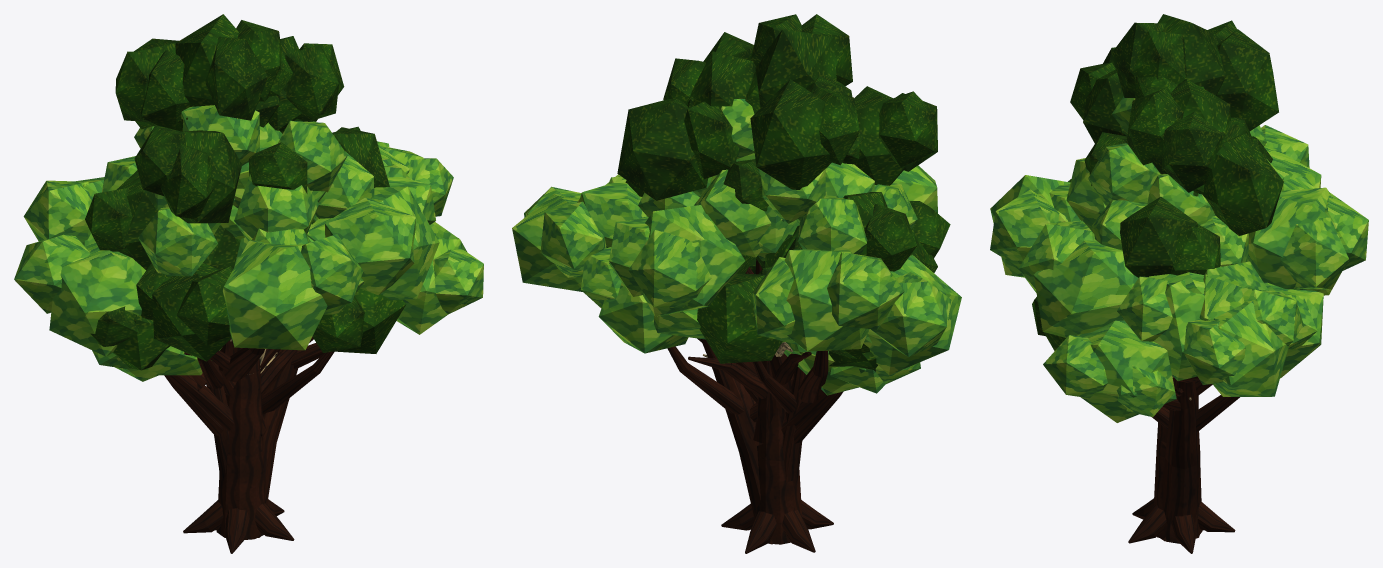
File: forest_trees-QFwpbQj8.glb
3 renders of one model, left to right at view 1: azimuth 30°, elevation 25°; view 2: azimuth 150°, elevation 25°; view 3: azimuth 270°, elevation 25°, orthographic. The views are drawn at different scales.
Parts seen in each view (by area): view 1: Oak_Spreading_Canopy, Birch_Forked_Canopy, OakCanopy, Rowan_Fan_Canopy, Oak_Windswept_Canopy, OakTrunk, Oak_Spreading_Trunk, BirchCanopy, Rowan_Fan_Trunk, Oak_Windswept_Trunk; view 2: Birch_Forked_Canopy, Oak_Spreading_Canopy, Oak_Windswept_Canopy, OakCanopy, Rowan_Fan_Canopy, Oak_Spreading_Trunk, OakTrunk, Oak_Windswept_Trunk, Rowan_Fan_Trunk, BirchCanopy; view 3: Birch_Forked_Canopy, Oak_Spreading_Canopy, Oak_Windswept_Canopy, OakCanopy, Oak_Windswept_Trunk, Oak_Spreading_Trunk, BirchCanopy, OakTrunk.
Boxes of the visible parts, x1,y1,x2,y2 form: Oak_Spreading_Canopy: [14, 145, 439, 356]; Birch_Forked_Canopy: [85, 14, 389, 270]; OakCanopy: [101, 105, 374, 276]; Rowan_Fan_Canopy: [90, 219, 406, 370]; Oak_Windswept_Canopy: [92, 141, 483, 381]; OakTrunk: [184, 337, 313, 539]; Oak_Spreading_Trunk: [168, 340, 294, 553]; BirchCanopy: [175, 53, 307, 193]; Rowan_Fan_Trunk: [164, 349, 334, 481]; Oak_Windswept_Trunk: [215, 343, 323, 533]; Birch_Forked_Canopy: [617, 14, 937, 271]; Oak_Spreading_Canopy: [577, 165, 961, 374]; Oak_Windswept_Canopy: [512, 176, 920, 395]; OakCanopy: [638, 99, 917, 261]; Rowan_Fan_Canopy: [697, 201, 950, 371]; Oak_Spreading_Trunk: [721, 259, 833, 553]; OakTrunk: [688, 267, 811, 544]; Oak_Windswept_Trunk: [667, 339, 791, 529]; Rowan_Fan_Trunk: [753, 361, 843, 489]; BirchCanopy: [723, 50, 863, 211]; Birch_Forked_Canopy: [1070, 14, 1283, 277]; Oak_Spreading_Canopy: [990, 125, 1368, 381]; Oak_Windswept_Canopy: [1043, 261, 1323, 422]; OakCanopy: [1066, 96, 1283, 266]; Oak_Windswept_Trunk: [1159, 376, 1239, 543]; Oak_Spreading_Trunk: [1128, 376, 1235, 553]; BirchCanopy: [1084, 76, 1272, 194]; OakTrunk: [1153, 380, 1212, 541].
Size of the model in its own units: 7.41 by 8.5 by 5.75.
Materials: 4 (4 with a texture image).
